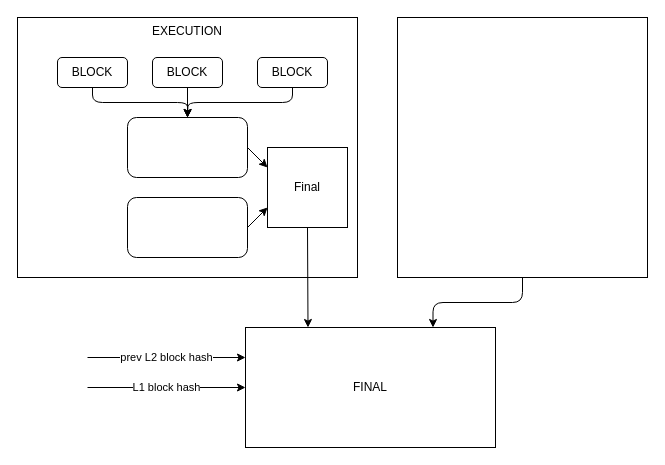
Image size: 665x465. Some labels were removed from this diagram. Each missing label, with the centre of its shape:
"Blcok Aggregation" goes at point (187, 147).
"Bridge" goes at point (187, 227).
"CONSENSUS" goes at point (522, 147).
